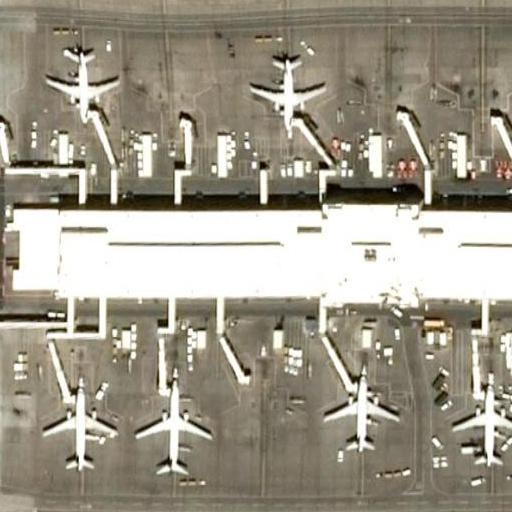Aircraft: (315, 372, 406, 461), (32, 379, 116, 475), (235, 48, 328, 131), (132, 385, 208, 480), (43, 46, 124, 124), (451, 379, 512, 474)
